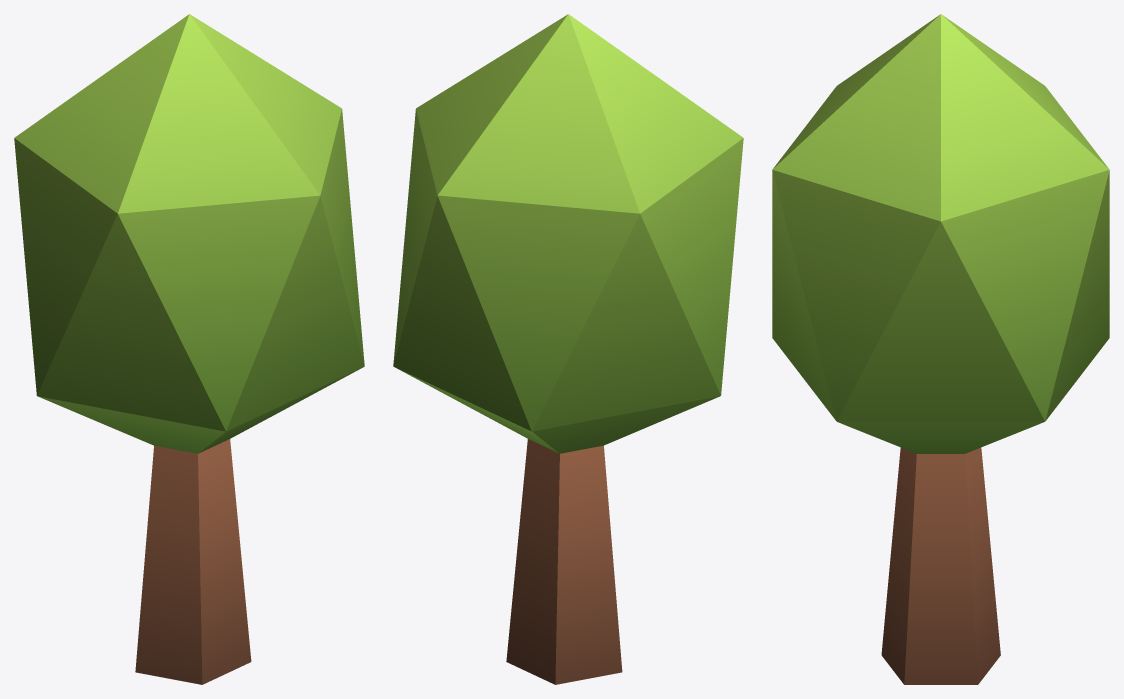
Rendered from tree 9.fbx.
3 views of the same model, side by side, from view 1: azimuth 30°, elevation 25°; view 2: azimuth 150°, elevation 25°; view 3: azimuth 270°, elevation 25° (orthographic).
Visible parts, largest first — view 1: tree_9; view 2: tree_9; view 3: tree_9.
Boxes of the visible parts, bbox=[...] form: tree_9: bbox=[14, 14, 364, 684]; tree_9: bbox=[393, 14, 743, 684]; tree_9: bbox=[772, 14, 1109, 684].
Bounding box in the file's own units: 145 × 294 × 138.
Materials: 1 (1 with a texture image).
